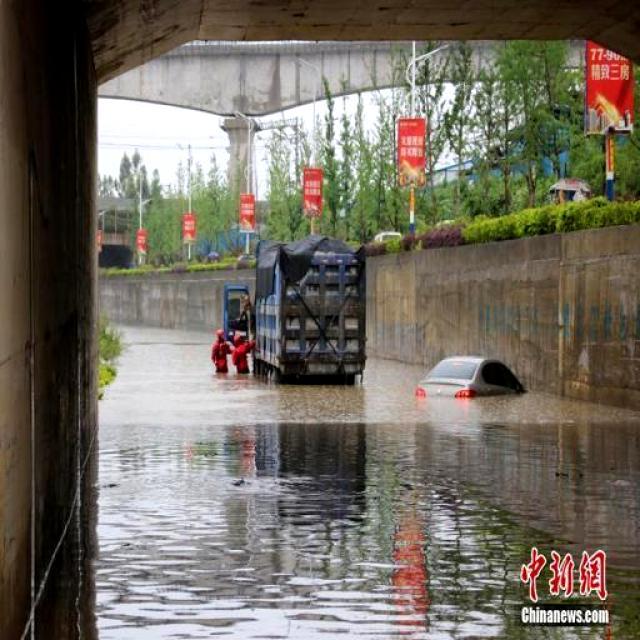rescuer: (226, 322, 265, 390), (206, 324, 238, 390)
